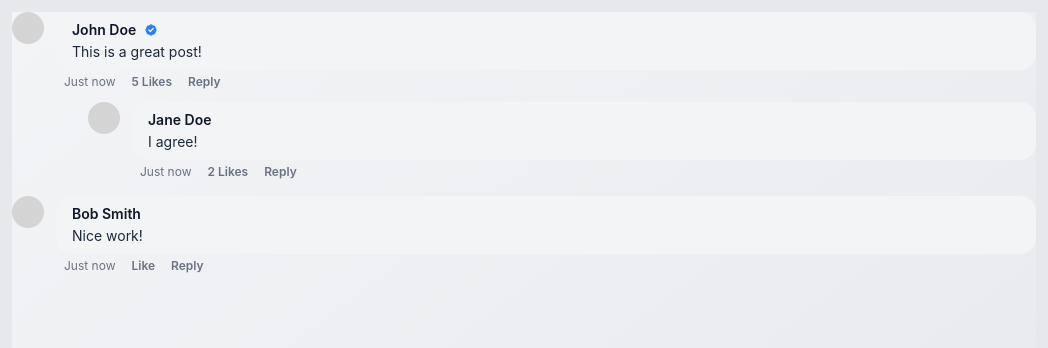
Test: CommentThread › shows reply input when reply button is clicked
Click the button with aria-label "reply to comment" at (204, 82), box [188,74,221,90]
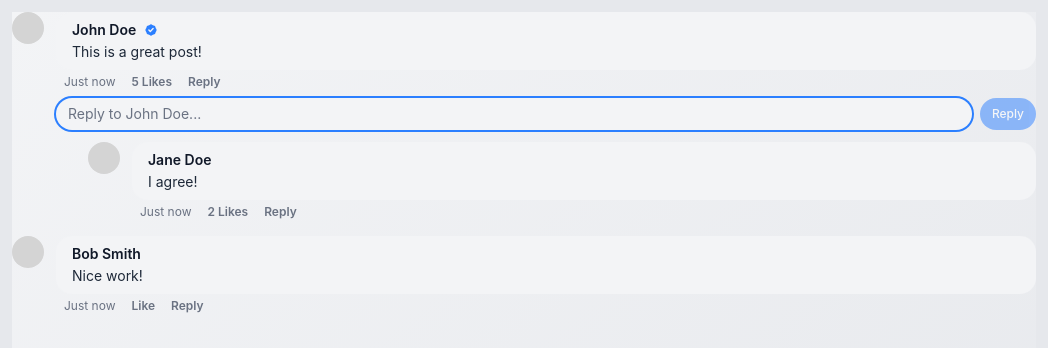
Check: the field with placeholder "Reply to John Doe..." is shown, box [56,98,972,130]
